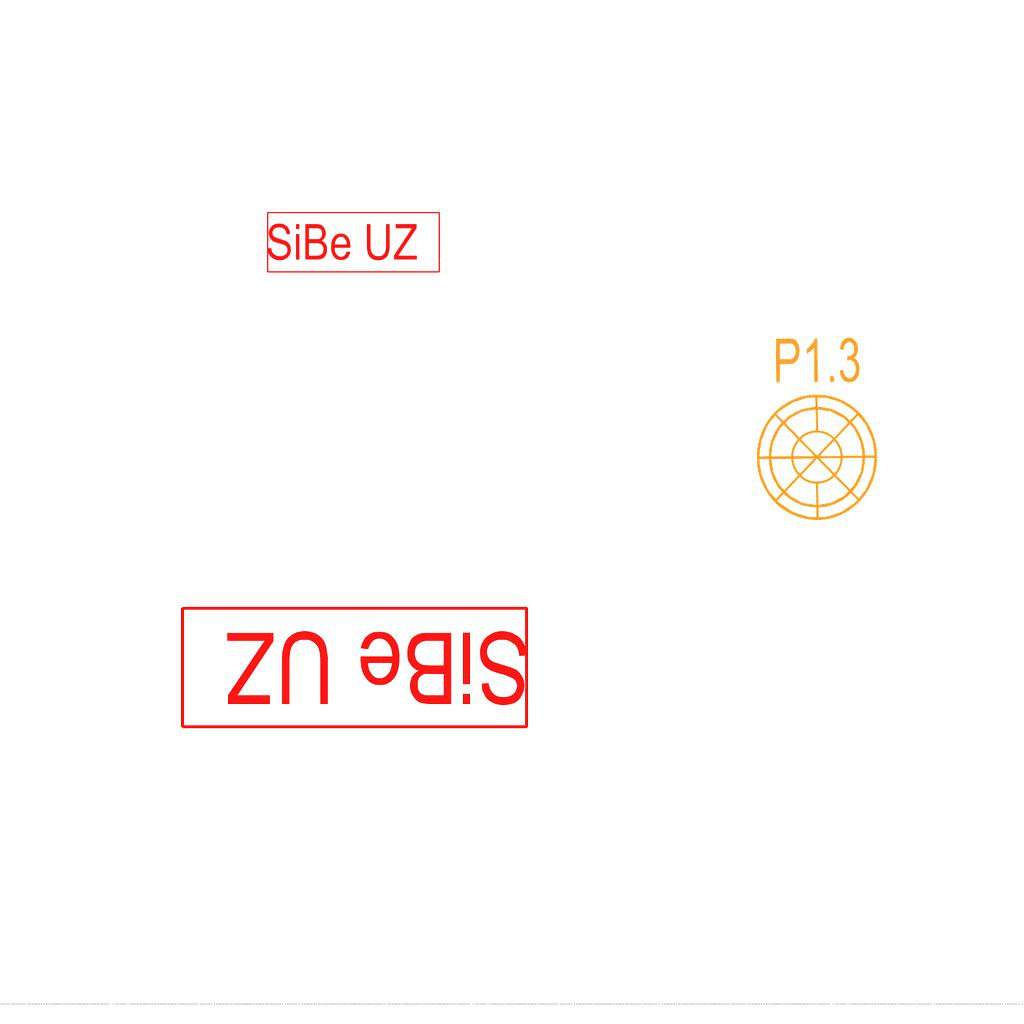Aufbaurundleuchte_LED_Treppenhaus: (753, 319, 892, 524)
Zentrale_Sicherheitsbeleuchtung: (175, 602, 532, 732), (265, 210, 443, 275)
